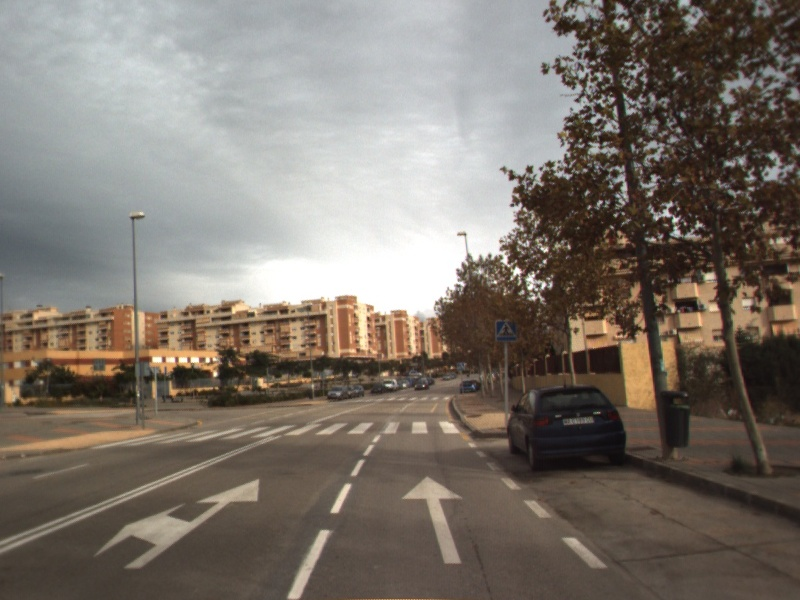STRAIGHT: (399, 474, 466, 565)
STRAIGHT_LEFT: (91, 477, 261, 571)
